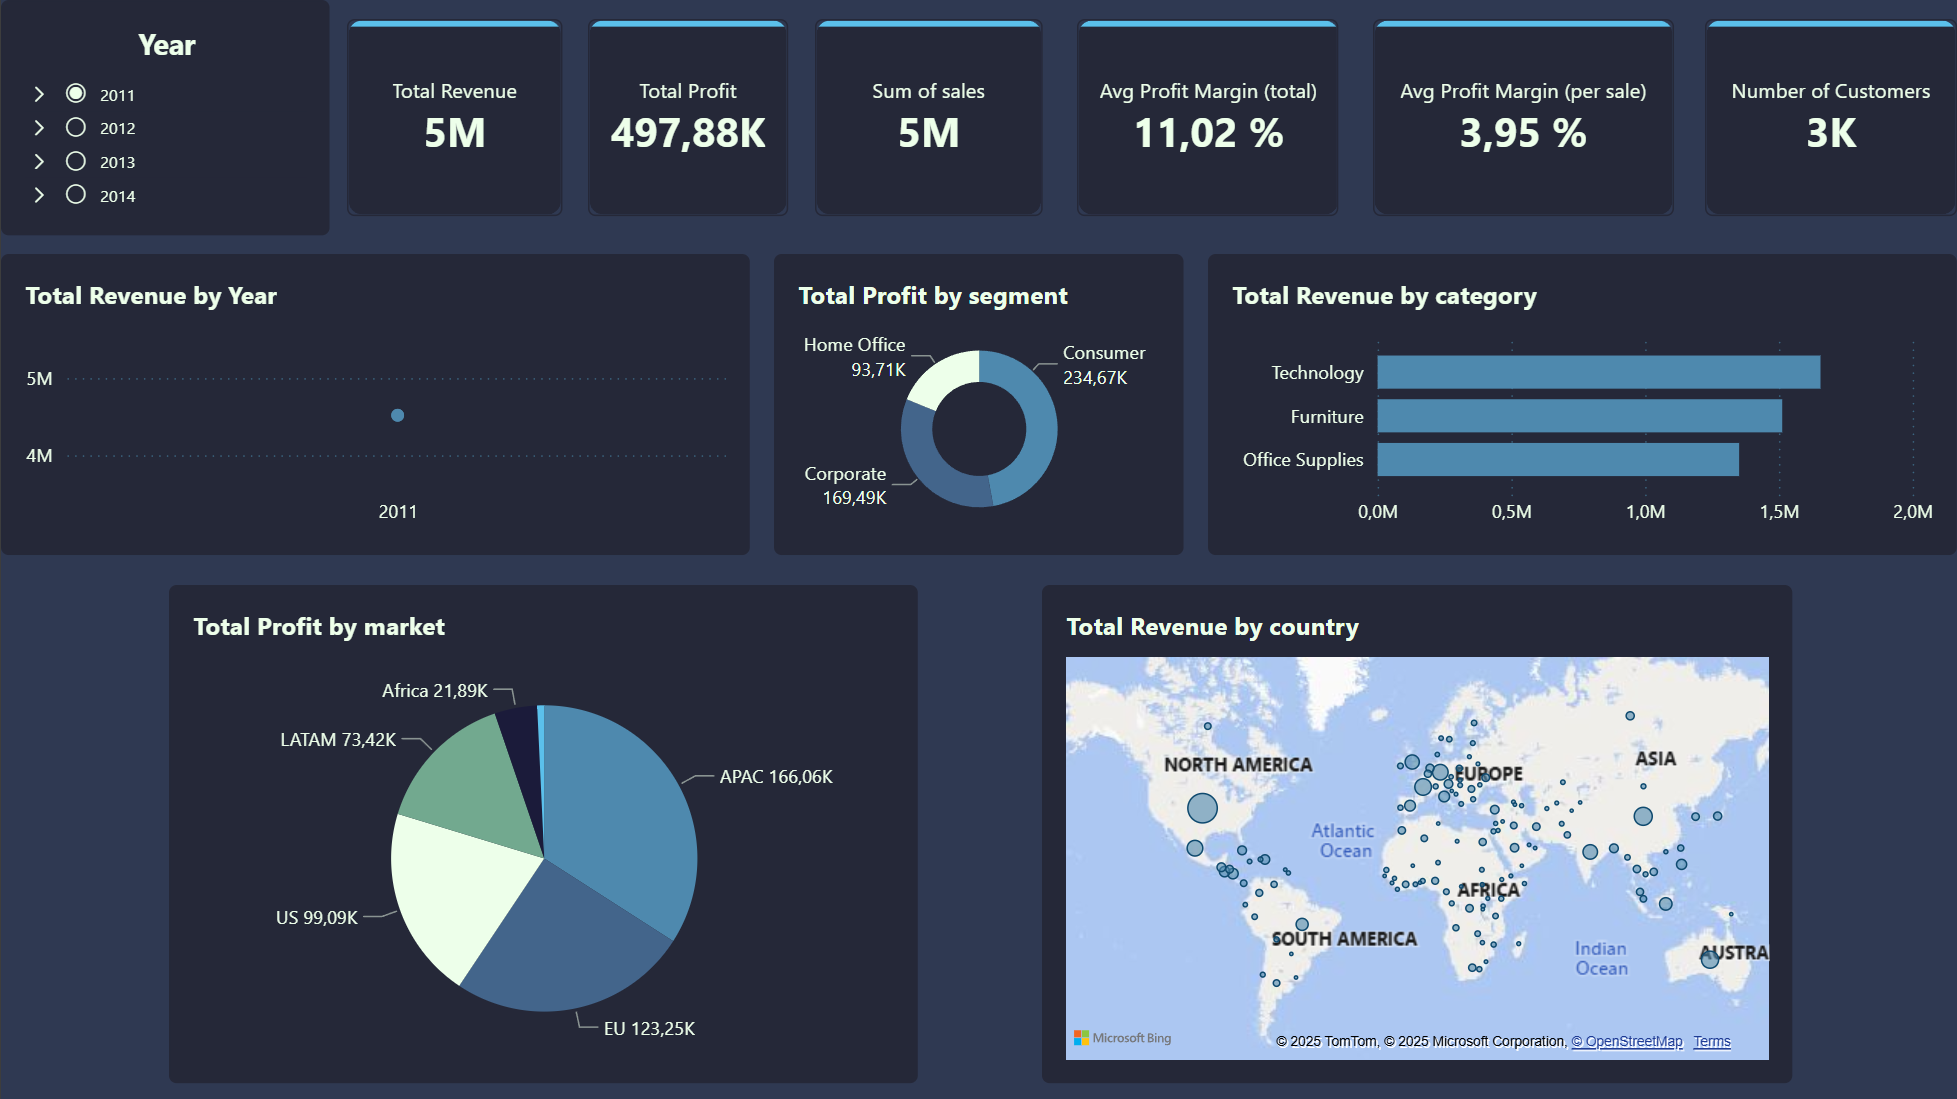

What the dashboard file says about the page in this screenshot:
{"tool":"powerbi","page":{"name":"Page 1","canvas":[1280,720],"ordinal":0},"visuals":[{"type":"listSlicer","fields":{"Values":["public orders.order_date.Variation.Date Hierarchy.Year","public orders.order_date.Variation.Date Hierarchy.Quarter","public orders.order_date.Variation.Date Hierarchy.Month","public orders.order_date.Variation.Date Hierarchy.Day"]},"box":[0,0,215.3,154.4],"z":0},{"type":"cardVisual","fields":{"Data":["Measure Table.Total Revenue"]},"box":[226.4,12.4,140.7,128.9],"z":1000},{"type":"cardVisual","fields":{"Data":["Measure Table.Total Profit"]},"box":[384.1,12.4,130.9,128.9],"z":2000},{"type":"cardVisual","fields":{"Data":["Measure Table.Avg Profit Margin (weighted)"]},"box":[704.1,12.4,171.5,128.9],"z":3000},{"type":"cardVisual","fields":{"Data":["Measure Table.Avg Profit Margin (row avg)"]},"box":[897.8,12.4,197,128.9],"z":4000},{"type":"cardVisual","fields":{"Data":["Measure Table.Number of Customers"]},"box":[1115.1,12.4,164.9,128.9],"z":5000},{"type":"cardVisual","fields":{"Data":["Sum(public orders.sales)"]},"box":[532.7,12.4,148.5,128.9],"z":6000},{"type":"clusteredBarChart","fields":{"Category":["public orders.category"],"Y":["Measure Table.Total Revenue"]},"box":[789.9,166.2,490.1,197],"z":7000},{"type":"lineChart","fields":{"Category":["public orders.order_date.Variation.Date Hierarchy.Year","public orders.order_date.Variation.Date Hierarchy.Quarter","public orders.order_date.Variation.Date Hierarchy.Month","public orders.order_date.Variation.Date Hierarchy.Day"],"Y":["Measure Table.Total Revenue"]},"box":[0,166.2,490.1,197],"z":8000},{"type":"donutChart","fields":{"Category":["public orders.segment"],"Y":["Measure Table.Total Profit"]},"box":[505.8,166.2,267.6,197],"z":9000},{"type":"pieChart","fields":{"Y":["Measure Table.Total Profit"],"Category":["public orders.market_1"]},"box":[109.9,382.8,490.1,325.9],"z":10000},{"type":"map","fields":{"Category":["public orders.country"],"Size":["Measure Table.Total Revenue"]},"box":[681.2,382.8,490.8,325.9],"z":11000}]}

Visuals, with their boxes in screenshot pixels (x1, y1, x2, y2), scaled from the page's 1280x720 canvas onto the 1957x1099 screenshot:
listSlicer - public orders.order_date.Variation.Date Hierarchy.Year x public orders.order_date.Variation.Date Hierarchy.Quarter: region(0, 0, 329, 236)
cardVisual - Measure Table.Total Revenue: region(346, 19, 561, 216)
cardVisual - Measure Table.Total Profit: region(587, 19, 787, 216)
cardVisual - Measure Table.Avg Profit Margin (weighted): region(1077, 19, 1339, 216)
cardVisual - Measure Table.Avg Profit Margin (row avg): region(1373, 19, 1674, 216)
cardVisual - Measure Table.Number of Customers: region(1705, 19, 1956, 216)
cardVisual - Sum(public orders.sales): region(814, 19, 1041, 216)
clusteredBarChart - public orders.category x Measure Table.Total Revenue: region(1208, 254, 1956, 554)
lineChart - public orders.order_date.Variation.Date Hierarchy.Year x public orders.order_date.Variation.Date Hierarchy.Quarter: region(0, 254, 749, 554)
donutChart - public orders.segment x Measure Table.Total Profit: region(773, 254, 1182, 554)
pieChart - Measure Table.Total Profit x public orders.market_1: region(168, 584, 917, 1082)
map - public orders.country x Measure Table.Total Revenue: region(1041, 584, 1792, 1082)
